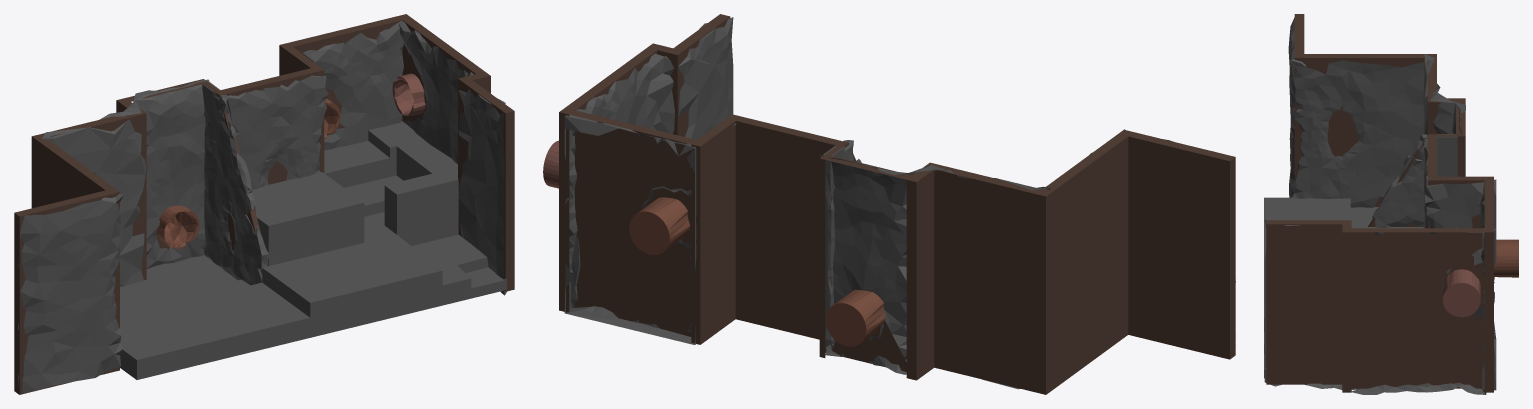
Rendered from Level_hälfte.fbx.
3 views of the same model, side by side, from view 1: azimuth 30°, elevation 25°; view 2: azimuth 150°, elevation 25°; view 3: azimuth 270°, elevation 25° (orthographic). The views are drawn at different scales.
Visible parts, largest first — view 1: Cube.007, Cube, Cube.008, Cube.009, Cube.010, Cube.012, Cube.013, Cube.011, Cylinder.003, Cylinder.004, Cylinder.005; view 2: Cube, Cube.009, Cube.010, Cube.011, Cylinder.005, Cylinder.003, Cube.013, Cylinder.004; view 3: Cube, Cube.008, Cube.013, Cube.007, Cube.012, Cube.010, Cylinder.004, Cube.009, Cylinder.005, Cube.011.
Boxes of the visible parts, x1,y1,x2,y2 form: Cube.007: (119, 121, 506, 379); Cube: (14, 14, 514, 394); Cube.008: (18, 172, 123, 393); Cube.009: (41, 79, 209, 286); Cube.010: (398, 21, 507, 295); Cube.012: (226, 53, 328, 189); Cube.013: (202, 82, 269, 285); Cube.011: (303, 23, 403, 150); Cylinder.003: (157, 205, 199, 248); Cylinder.004: (392, 73, 425, 116); Cylinder.005: (324, 98, 340, 139); Cube: (559, 14, 1235, 394); Cube.009: (820, 155, 1050, 389); Cube.010: (571, 17, 733, 307); Cube.011: (564, 114, 696, 344); Cylinder.005: (629, 197, 690, 255); Cylinder.003: (825, 289, 885, 346); Cube.013: (822, 140, 861, 352); Cylinder.004: (543, 140, 558, 188); Cube: (1266, 14, 1493, 392); Cube.008: (1288, 17, 1427, 207); Cube.013: (1372, 134, 1457, 227); Cube.007: (1264, 197, 1424, 378); Cube.012: (1423, 139, 1484, 228); Cube.010: (1264, 220, 1486, 394); Cylinder.004: (1442, 269, 1480, 317); Cube.009: (1423, 54, 1465, 142); Cylinder.005: (1494, 239, 1518, 277); Cube.011: (1480, 179, 1496, 390).
Bounding box in the file's own units: 2845 × 957 × 1342.
